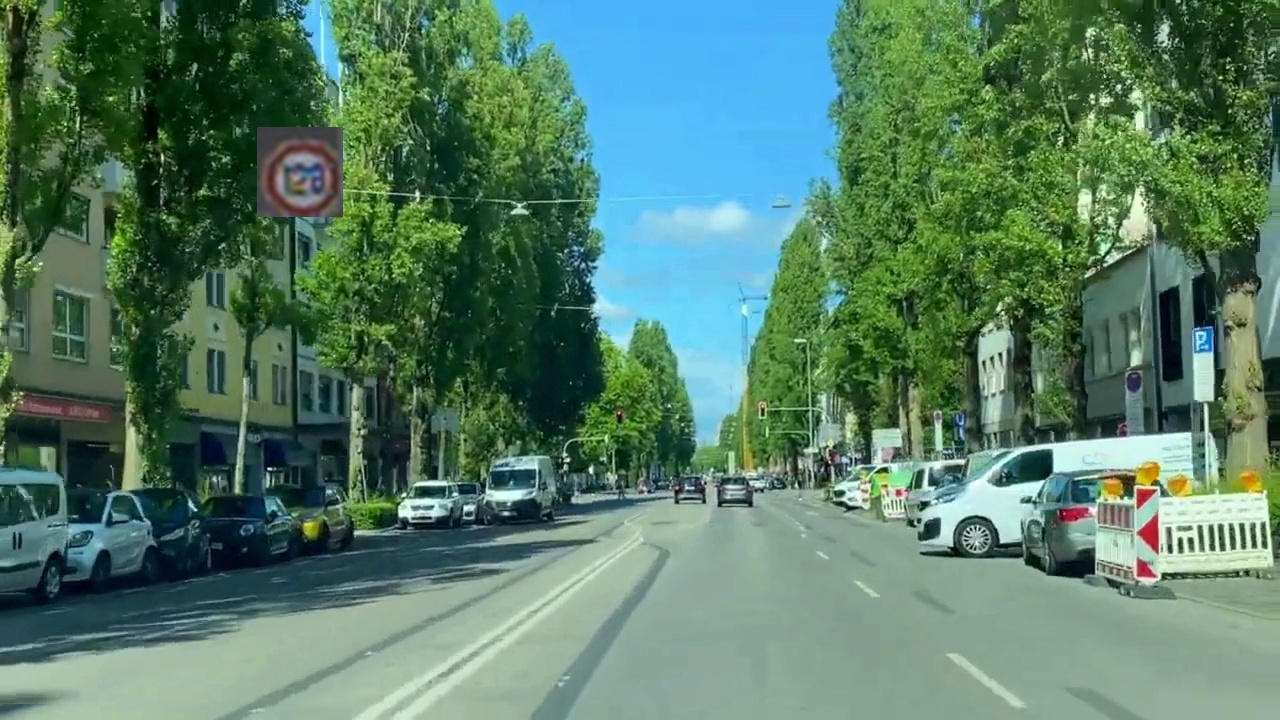Speed 120: (257, 127, 343, 217)
